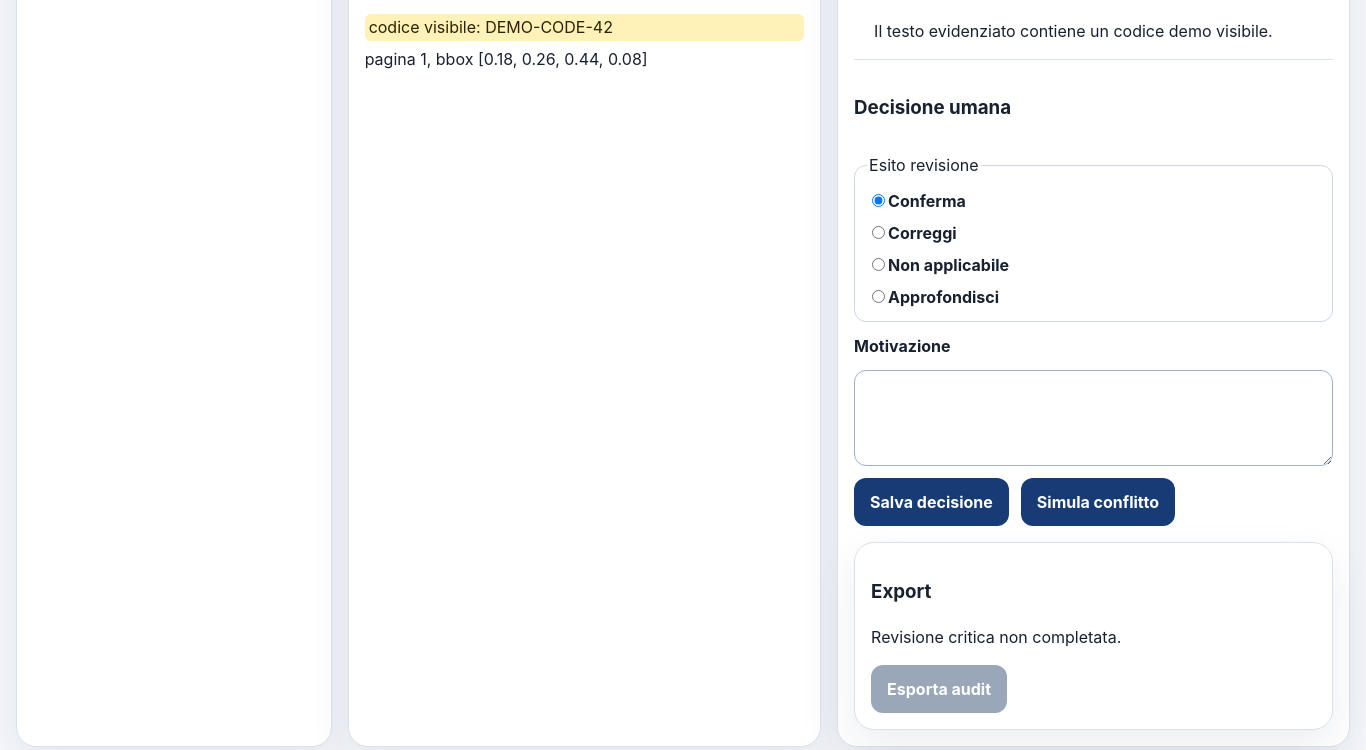
review workflow integration › keeps export blocked until every queue item has a human review
The image size is (1366, 750).
(page scrolled)
Expected: the button "Esporta audit" is disabled, [871,664,1007,712]
Click the button "Salva decisione" at (932, 502), box [854,478,1009,526]
(page scrolled)
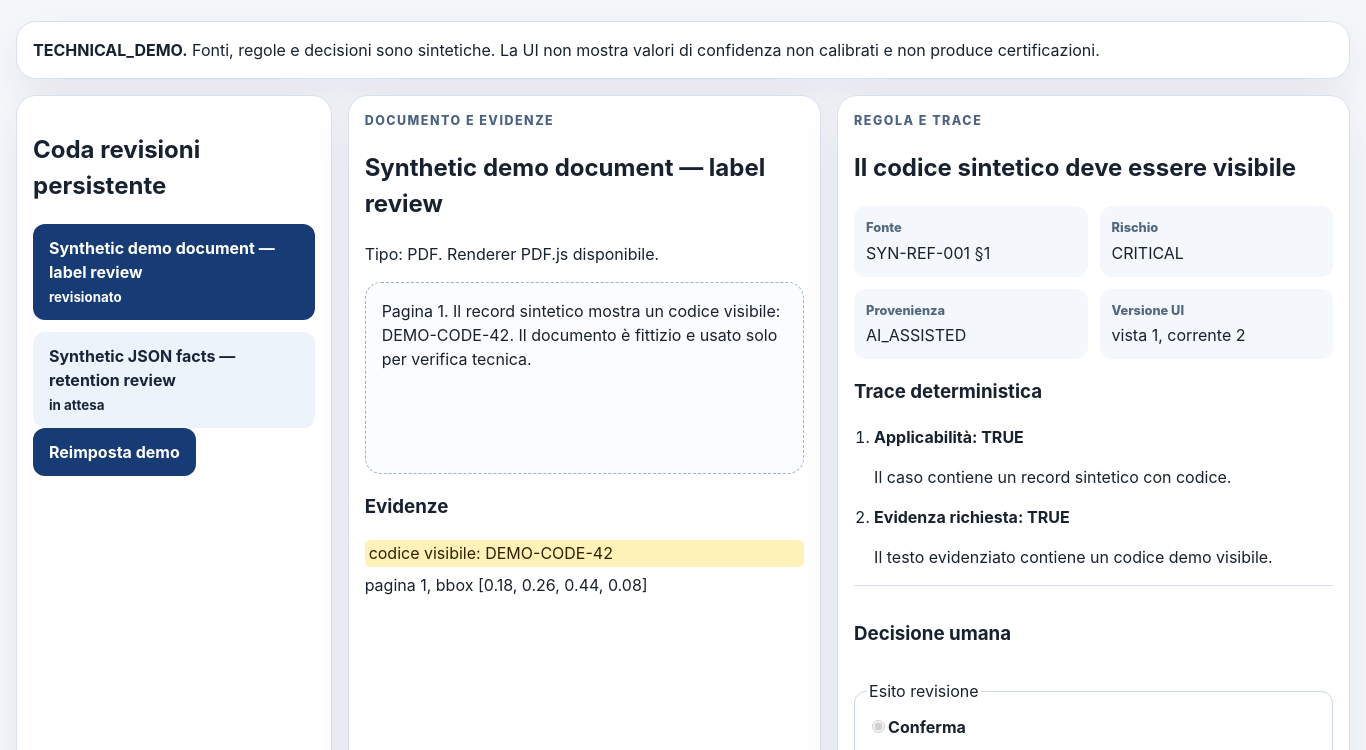
Now the text "revisionato" is shown, box [49,288,122,308]
Click the button "Synthetic JSON facts — retention review in attesa" at (174, 380), box [33,332,315,428]
(page scrolled)
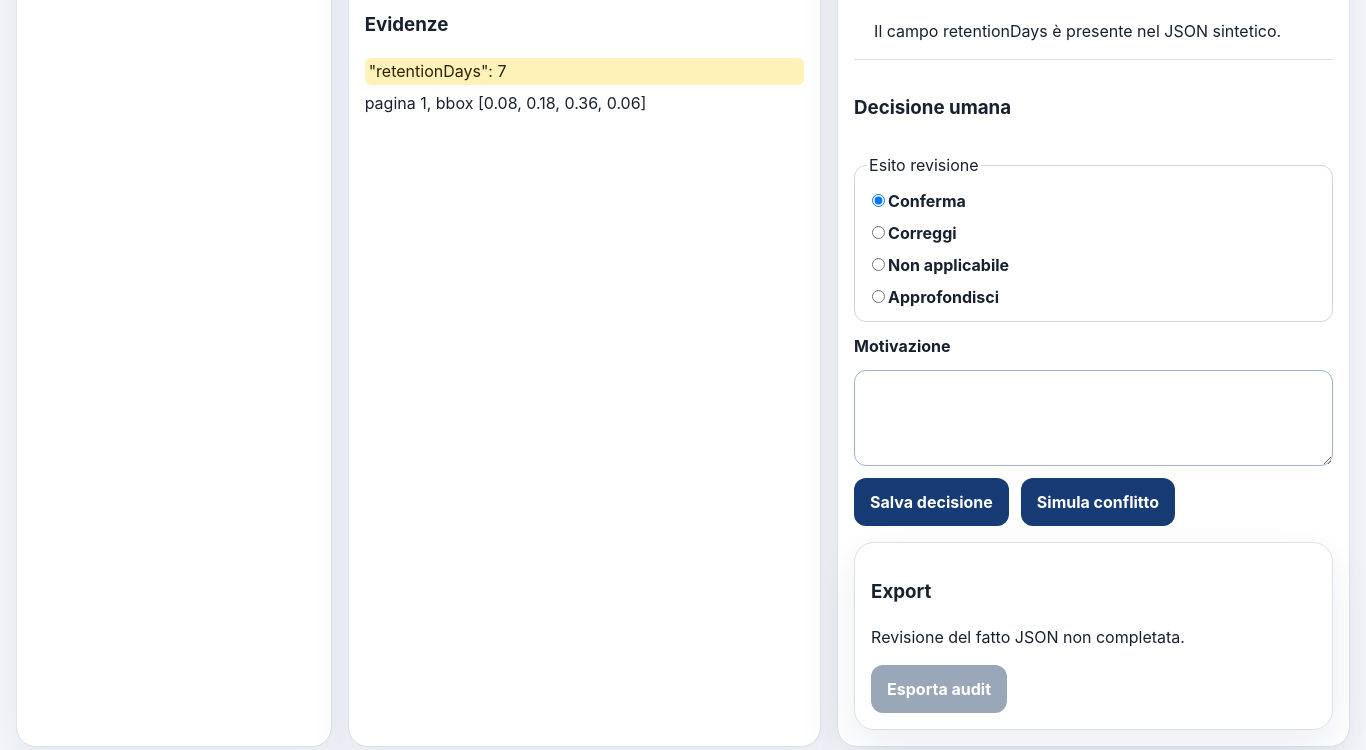
Click the button "Salva decisione" at (932, 502), box [854,478,1009,526]
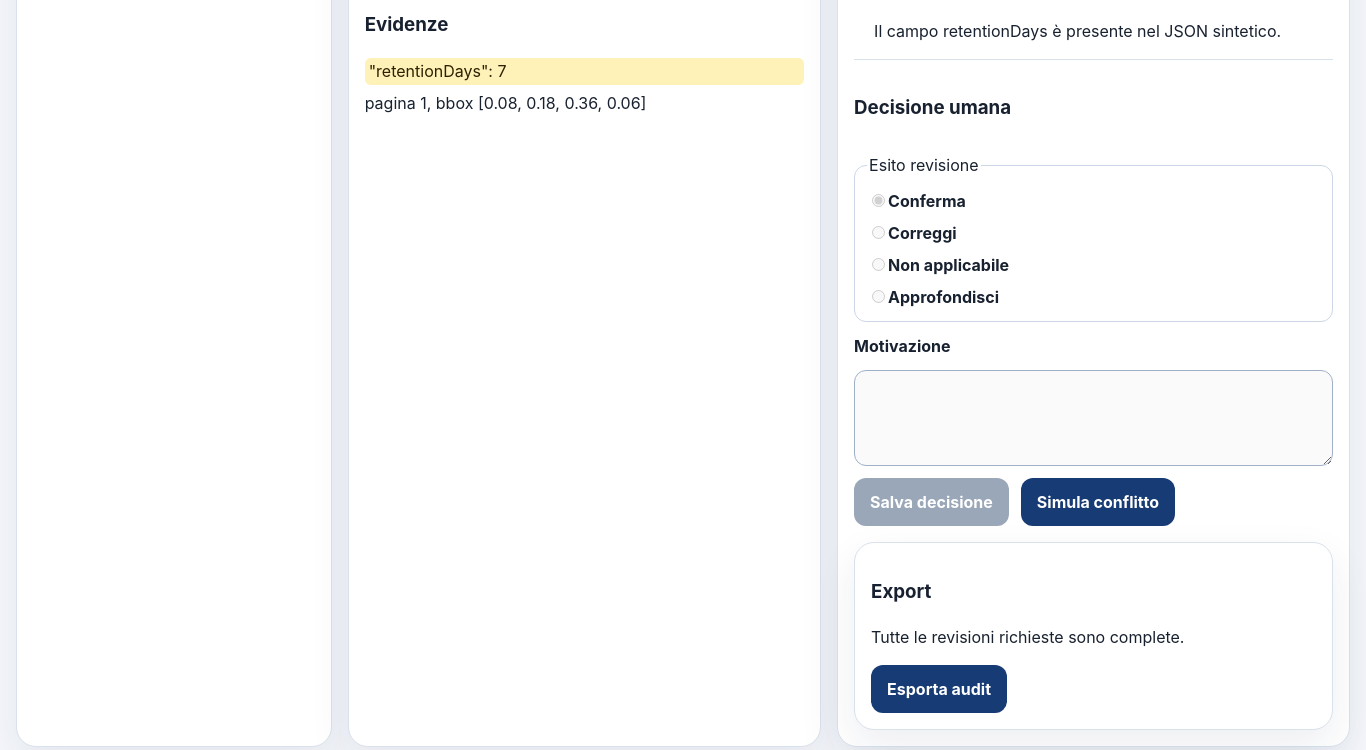
Now the button "Esporta audit" is enabled, box [871,664,1007,712]
